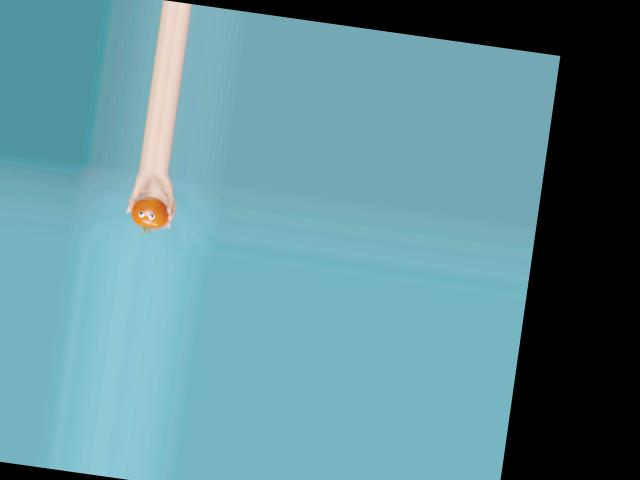tomato: (128, 193, 170, 231)
